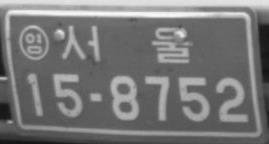-: (86, 91, 106, 104)
1: (22, 71, 49, 117)
2: (214, 77, 248, 123)
5: (177, 75, 211, 123), (51, 72, 83, 118)
7: (143, 74, 171, 121)
8: (108, 74, 140, 122)
서울_D: (61, 24, 192, 64)
영: (18, 24, 50, 61)
